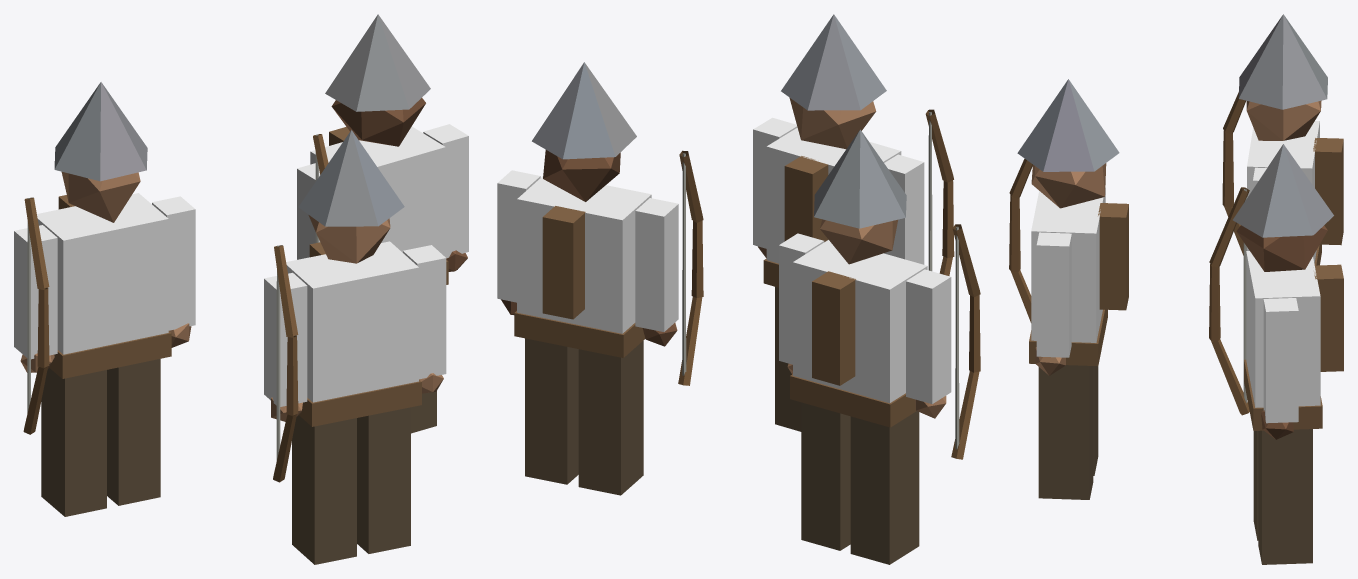
The model's file is Composite Bowman.glb.
The picture shows the model from 3 angles, left to right: view 1: azimuth 30°, elevation 25°; view 2: azimuth 150°, elevation 25°; view 3: azimuth 270°, elevation 25°; orthographic projection. The views are drawn at different scales.
Parts seen in each view (by area): view 1: Units_Composite Bowman; view 2: Units_Composite Bowman; view 3: Units_Composite Bowman.
Part boxes in pixels (box(x1,y1,x2,y2)): Units_Composite Bowman: box(14, 14, 468, 564); Units_Composite Bowman: box(497, 14, 980, 564); Units_Composite Bowman: box(1009, 14, 1343, 564).
Bounding box in the file's own units: 0.2449 × 0.215 × 0.1636.
